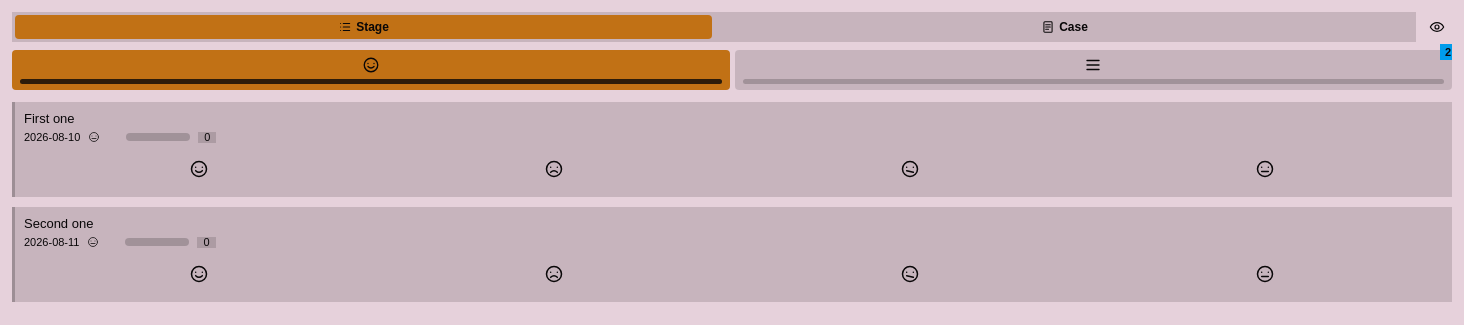
Test case: validation by stage › lists every message with only that stage input, on two icon tabs with progress
expect the text "First one" is shown: met, box left=24, top=111, right=75, bottom=126
expect the text "Second one" is shown: met, box left=24, top=216, right=93, bottom=231
Click the button "2" at (1093, 70), box left=734, top=50, right=1452, bottom=90
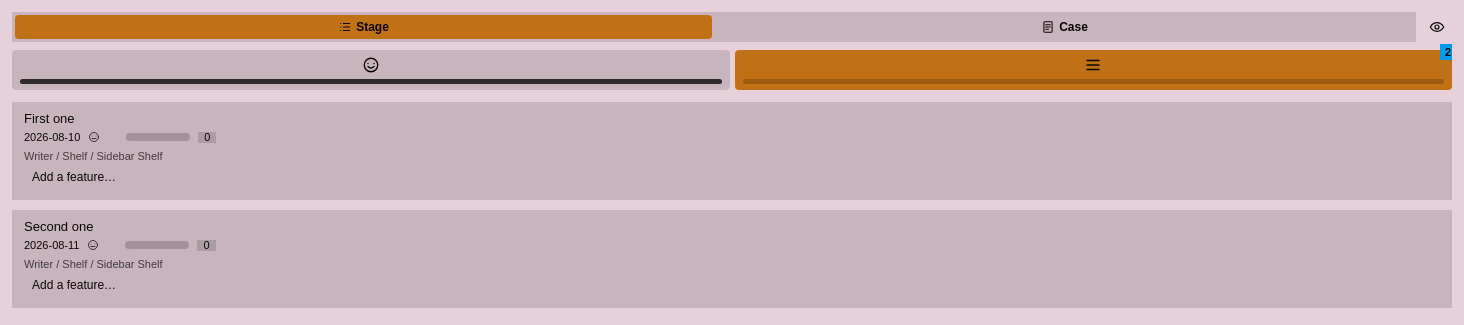
expect the button "Pleasant" is gone: met
expect the number of dropdowns named "Subject feature" is 2: met, box left=24, top=164, right=1440, bottom=190; left=24, top=272, right=1440, bottom=298
